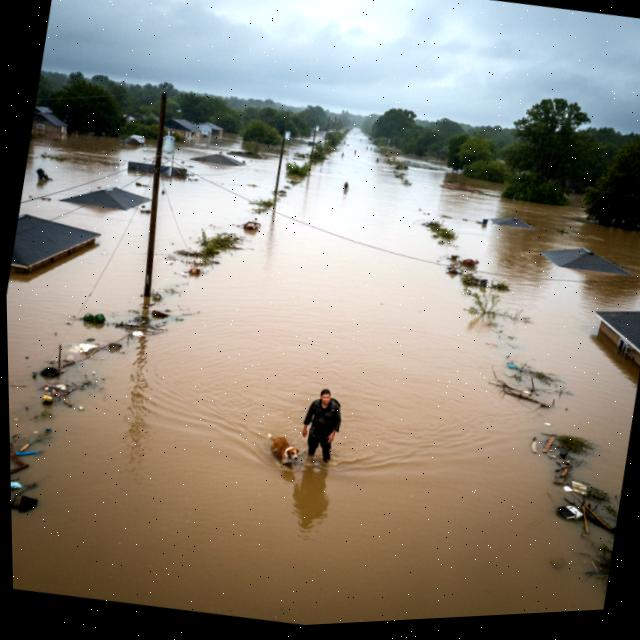civilian: (293, 377, 357, 473)
dog: (253, 421, 312, 482)
